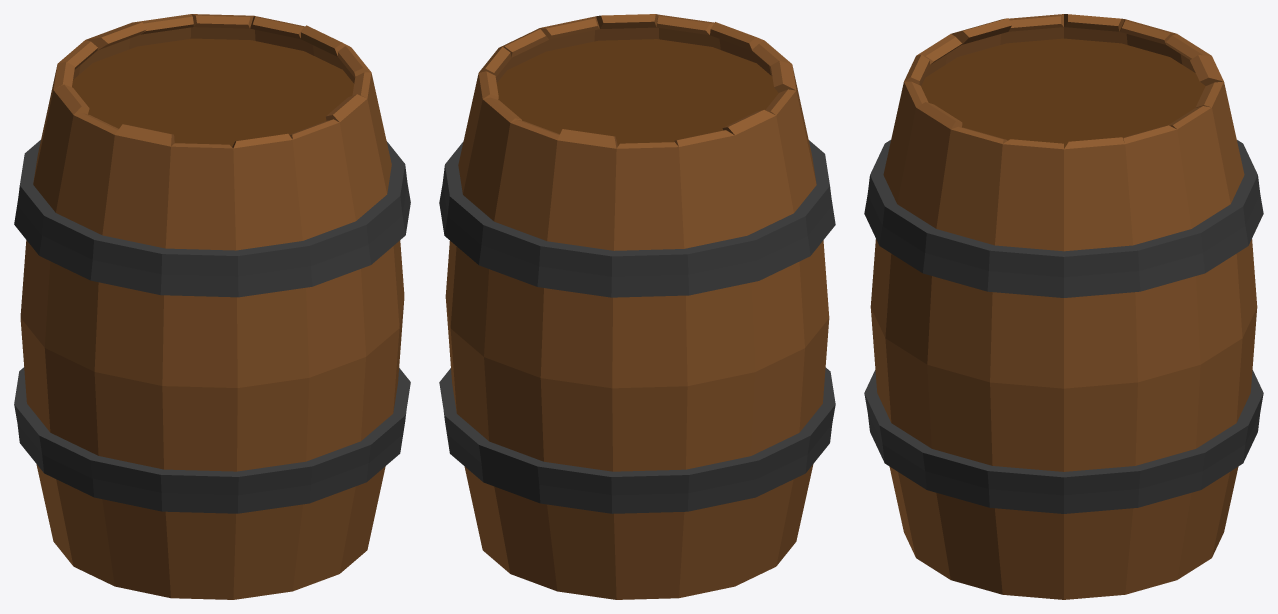
File: Fass.glb
3 views of the same model, side by side, from view 1: azimuth 30°, elevation 25°; view 2: azimuth 150°, elevation 25°; view 3: azimuth 270°, elevation 25° (orthographic).
Parts seen in each view (by area): view 1: Cylinder; view 2: Cylinder; view 3: Cylinder.
Boxes of the visible parts, bbox=[...] form: Cylinder: bbox=[14, 14, 410, 599]; Cylinder: bbox=[439, 14, 835, 599]; Cylinder: bbox=[864, 14, 1263, 599].
Size of the model in its own units: 2.49 by 3.15 by 2.49.
